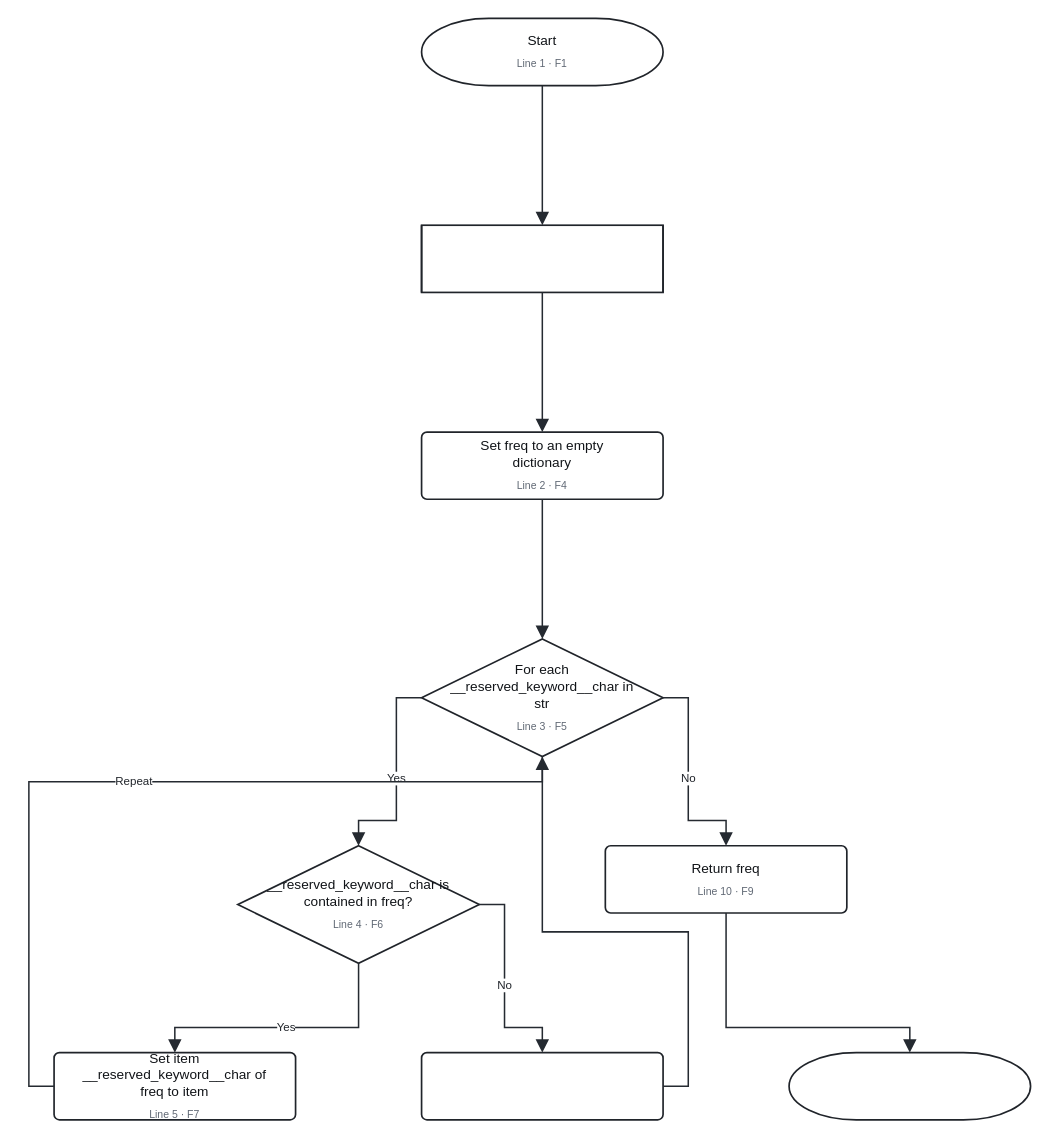
This 1050x1141 diagram has some shape labels left out. The box of each missing label's shape, as (x1, y1, x2, y2) in pixels:
End Line 1 · F2: (788, 1051, 1031, 1120)
Run function charFrequency with str Line 1 · F3: (420, 224, 663, 293)
Set item __reserved_keyword__char of freq to 1 Line 7 · F8: (420, 1051, 663, 1120)
